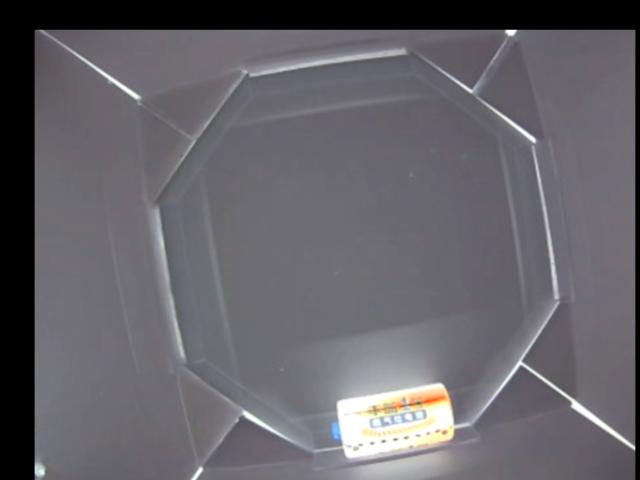Battery: (333, 380, 455, 457)
